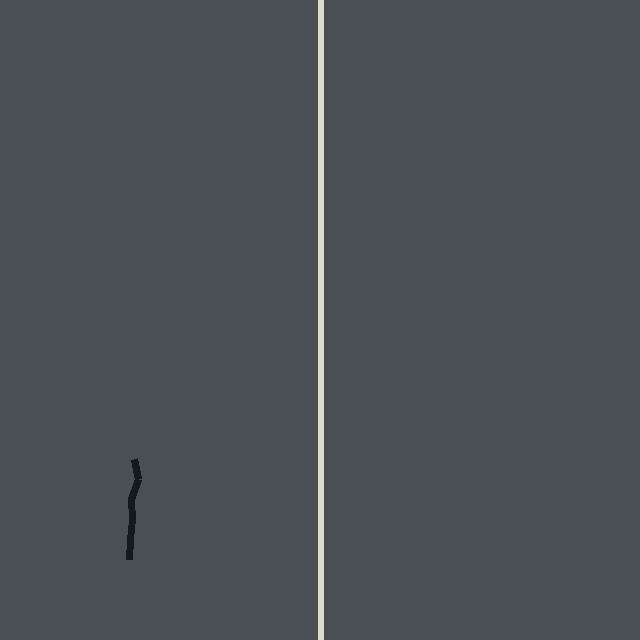longitudinal_crack: (133, 459, 215, 561)
